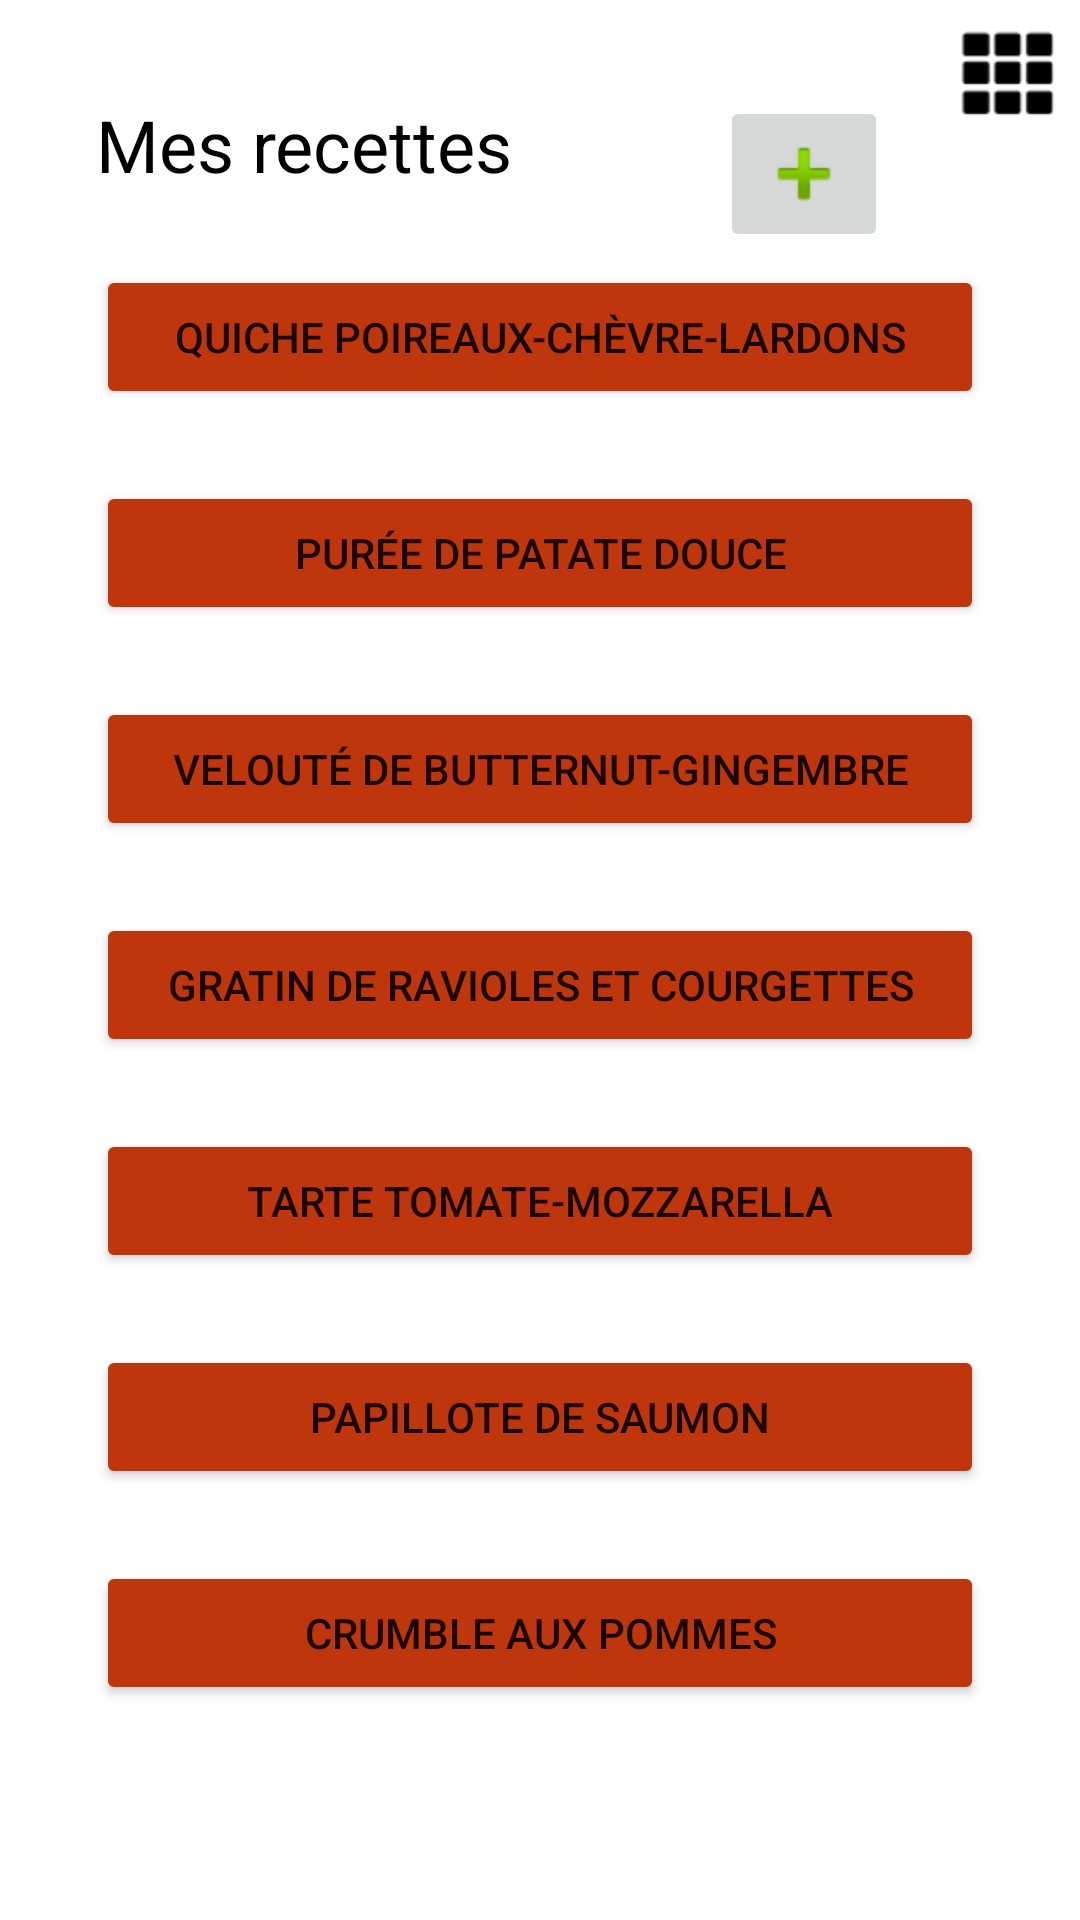

Icons on this 1080 × 1920 Android screen, each with its box as (x1, y1, x2, y2):
Add: (732, 114, 876, 234)
Menu: (961, 31, 1054, 115)
